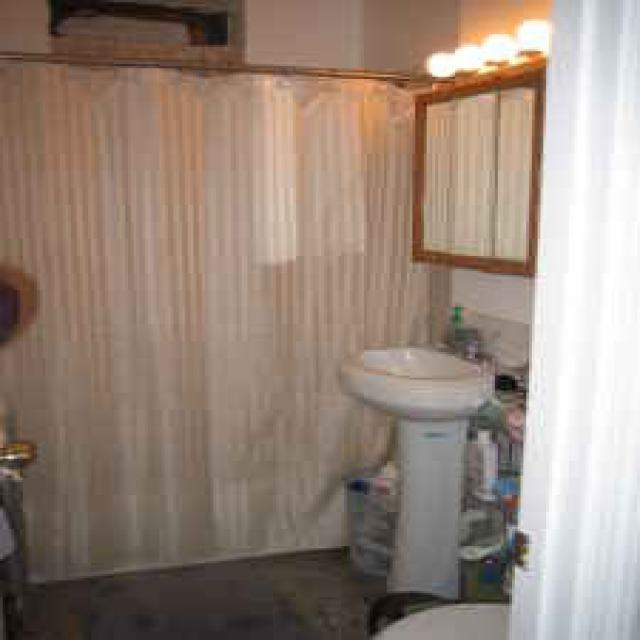can: (469, 429, 498, 495)
closet crop: (412, 58, 546, 273)
curtain crop: (6, 60, 449, 576)
door bars: (509, 0, 634, 638)
faucet handle: (444, 326, 478, 361)
floor -X: (3, 454, 512, 636)
lamp crop: (421, 19, 546, 73)
rail crop: (14, 49, 447, 79)
shelves crop: (341, 463, 398, 576)
wall clock: (3, 0, 356, 474), (444, 0, 558, 587), (361, 0, 452, 516)
washbasin crop: (336, 343, 492, 597)
wc: (373, 602, 503, 636)
